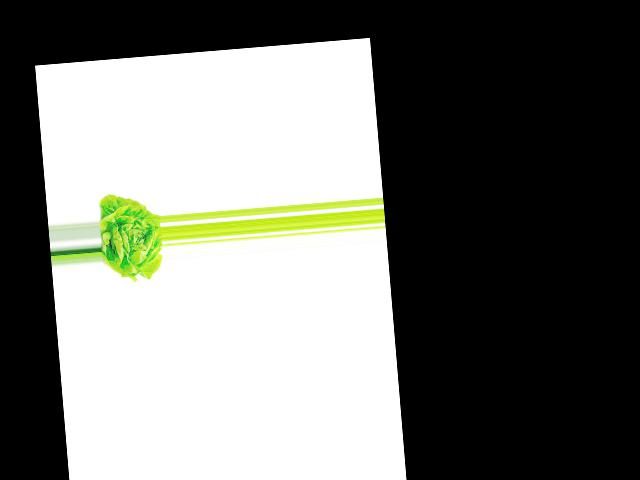lettuce: (96, 188, 164, 280)
